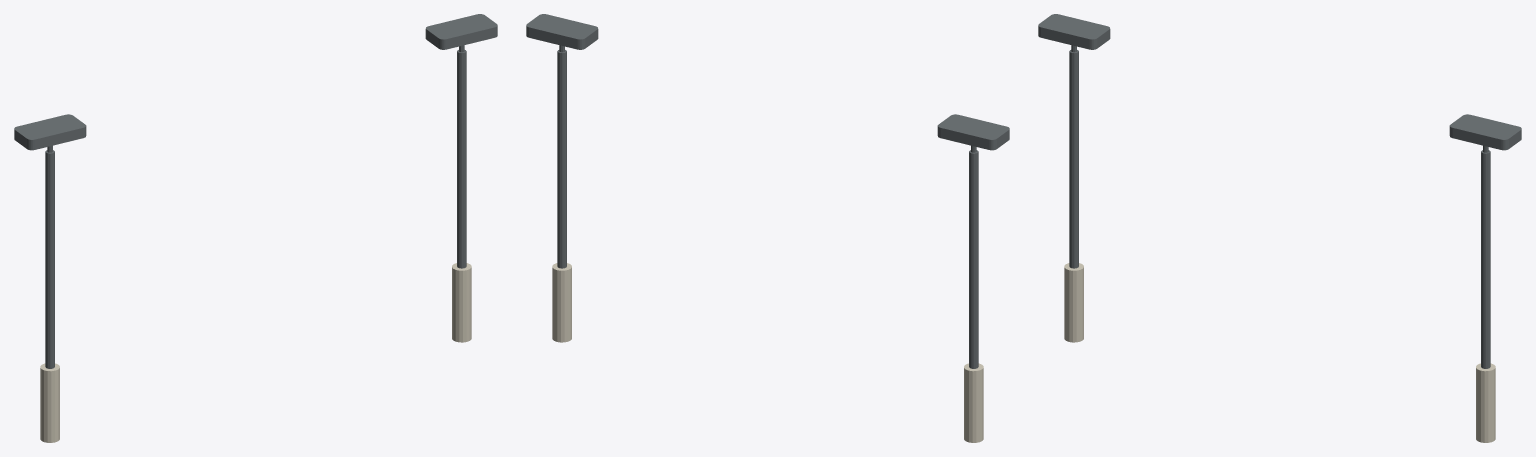
3 renders of one model, left to right at view 1: azimuth 30°, elevation 25°; view 2: azimuth 150°, elevation 25°; view 3: azimuth 330°, elevation 25°, orthographic.
Visible parts, largest first — view 1: buildings_s_-7_6_Dark_Metal, buildings_s_-7_6_Warm_Limestone; view 2: buildings_s_-7_6_Dark_Metal, buildings_s_-7_6_Warm_Limestone; view 3: buildings_s_-7_6_Dark_Metal, buildings_s_-7_6_Warm_Limestone.
Boxes of the visible parts, <box> form: buildings_s_-7_6_Dark_Metal: <box>14,14,497,368</box>; buildings_s_-7_6_Warm_Limestone: <box>40,263,471,442</box>; buildings_s_-7_6_Dark_Metal: <box>526,14,1009,368</box>; buildings_s_-7_6_Warm_Limestone: <box>552,263,983,442</box>; buildings_s_-7_6_Dark_Metal: <box>1038,14,1521,368</box>; buildings_s_-7_6_Warm_Limestone: <box>1064,263,1495,442</box>.
Bounding box in the file's own units: 13.7 × 8.68 × 0.9.
